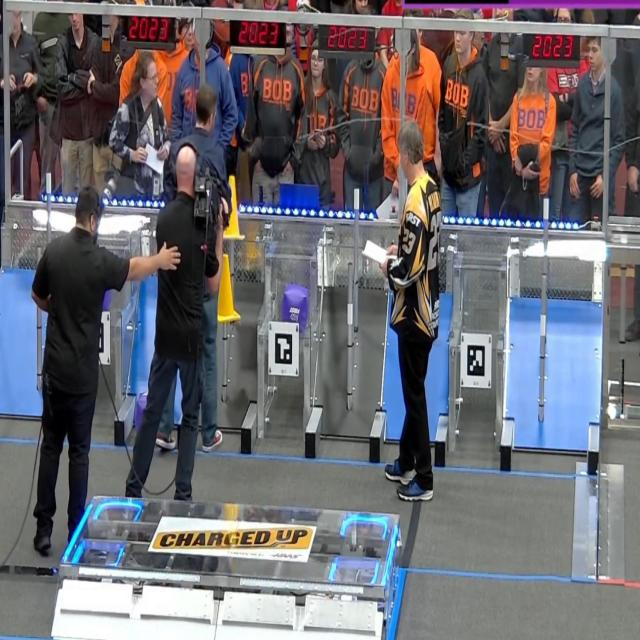frc_cone: (217, 250, 242, 324), (220, 174, 247, 242)
frc_cube: (283, 284, 307, 325), (133, 391, 147, 432), (103, 286, 111, 313)
